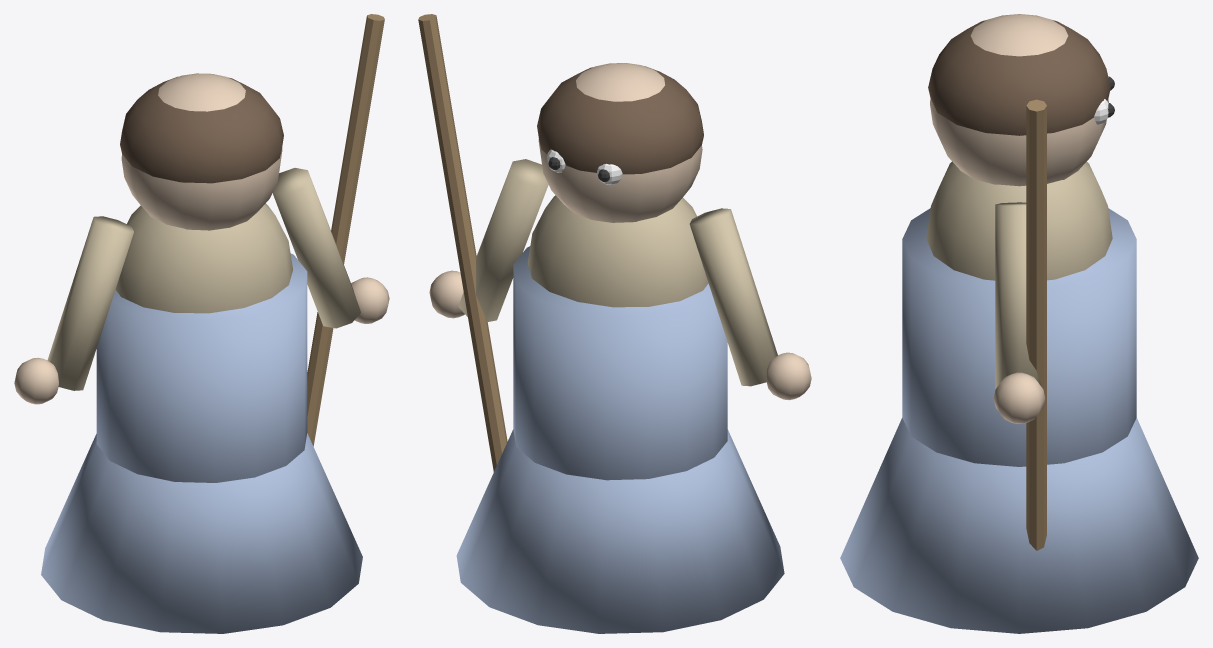
The model's file is wanderer.glb.
3 views of the same model, side by side, from view 1: azimuth 30°, elevation 25°; view 2: azimuth 150°, elevation 25°; view 3: azimuth 270°, elevation 25° (orthographic). The views are drawn at different scales.
Parts seen in each view (by area): view 1: Skirt, Body, Torso, HairCap, Head, Arm, Arm.001, Staff, Hand, Hand.001; view 2: Skirt, Body, Torso, HairCap, Head, Staff, Arm, Arm.001, Hand, Hand.001; view 3: Skirt, Body, HairCap, Torso, Head, Staff, Arm.001, Hand.001.
Boxes of the visible parts, x1,y1,x2,y2 form: Skirt: (41,433,362,633); Body: (96,253,307,482); Torso: (115,203,292,313); HairCap: (120,76,283,183); Head: (121,73,282,230); Arm: (47,216,133,390); Arm.001: (272,168,360,328); Staff: (307,14,384,446); Hand: (14,357,58,404); Hand.001: (351,277,389,323); Skirt: (456,429,784,633); Body: (513,246,727,480); Torso: (527,195,708,307); HairCap: (537,66,703,174); Head: (538,63,702,222); Staff: (418,14,507,471); Arm: (689,208,777,386); Arm.001: (458,159,548,321); Hand: (766,352,811,400); Hand.001: (429,270,464,318); Skirt: (840,418,1198,633); Body: (902,208,1136,466); HairCap: (928,20,1110,135); Torso: (926,161,1112,280); Head: (930,14,1108,186); Staff: (1026,99,1046,550); Arm.001: (995,202,1041,389); Hand.001: (993,372,1045,423).
Size of the model in its own units: 1.38 by 1.77 by 1.04.
